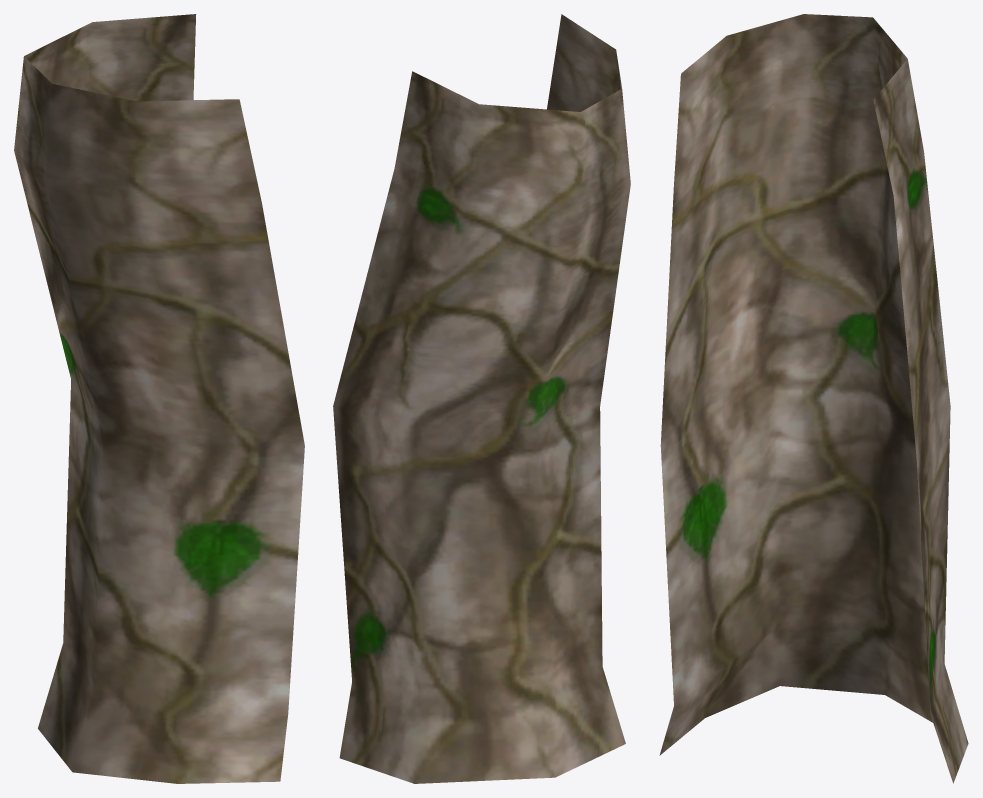
The model's file is EKH_GROTTO_PS_GR_OBJECT22.fbx.
The picture shows the model from 3 angles, left to right: view 1: azimuth 30°, elevation 25°; view 2: azimuth 150°, elevation 25°; view 3: azimuth 270°, elevation 25°; orthographic projection. The views are drawn at different scales.
Visible parts, largest first — view 1: EKH_GROTTO_PS_GR_OBJECT22; view 2: EKH_GROTTO_PS_GR_OBJECT22; view 3: EKH_GROTTO_PS_GR_OBJECT22.
Part boxes in pixels (bbox=[...]): EKH_GROTTO_PS_GR_OBJECT22: bbox=[14, 14, 304, 783]; EKH_GROTTO_PS_GR_OBJECT22: bbox=[333, 14, 630, 783]; EKH_GROTTO_PS_GR_OBJECT22: bbox=[659, 14, 968, 783].
Size of the model in its own units: 13361 by 35558 by 14910.
Materials: 1 (1 with a texture image).
